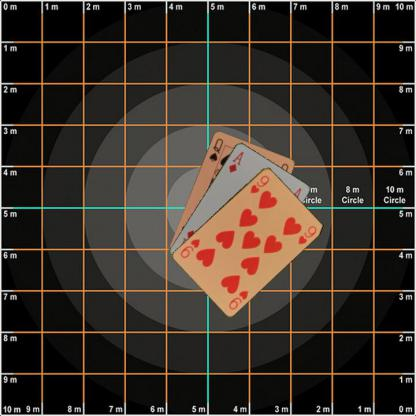9h: (226, 288, 250, 311), (248, 172, 270, 194)
Ad: (226, 148, 245, 174)
Qs: (206, 135, 224, 163)
